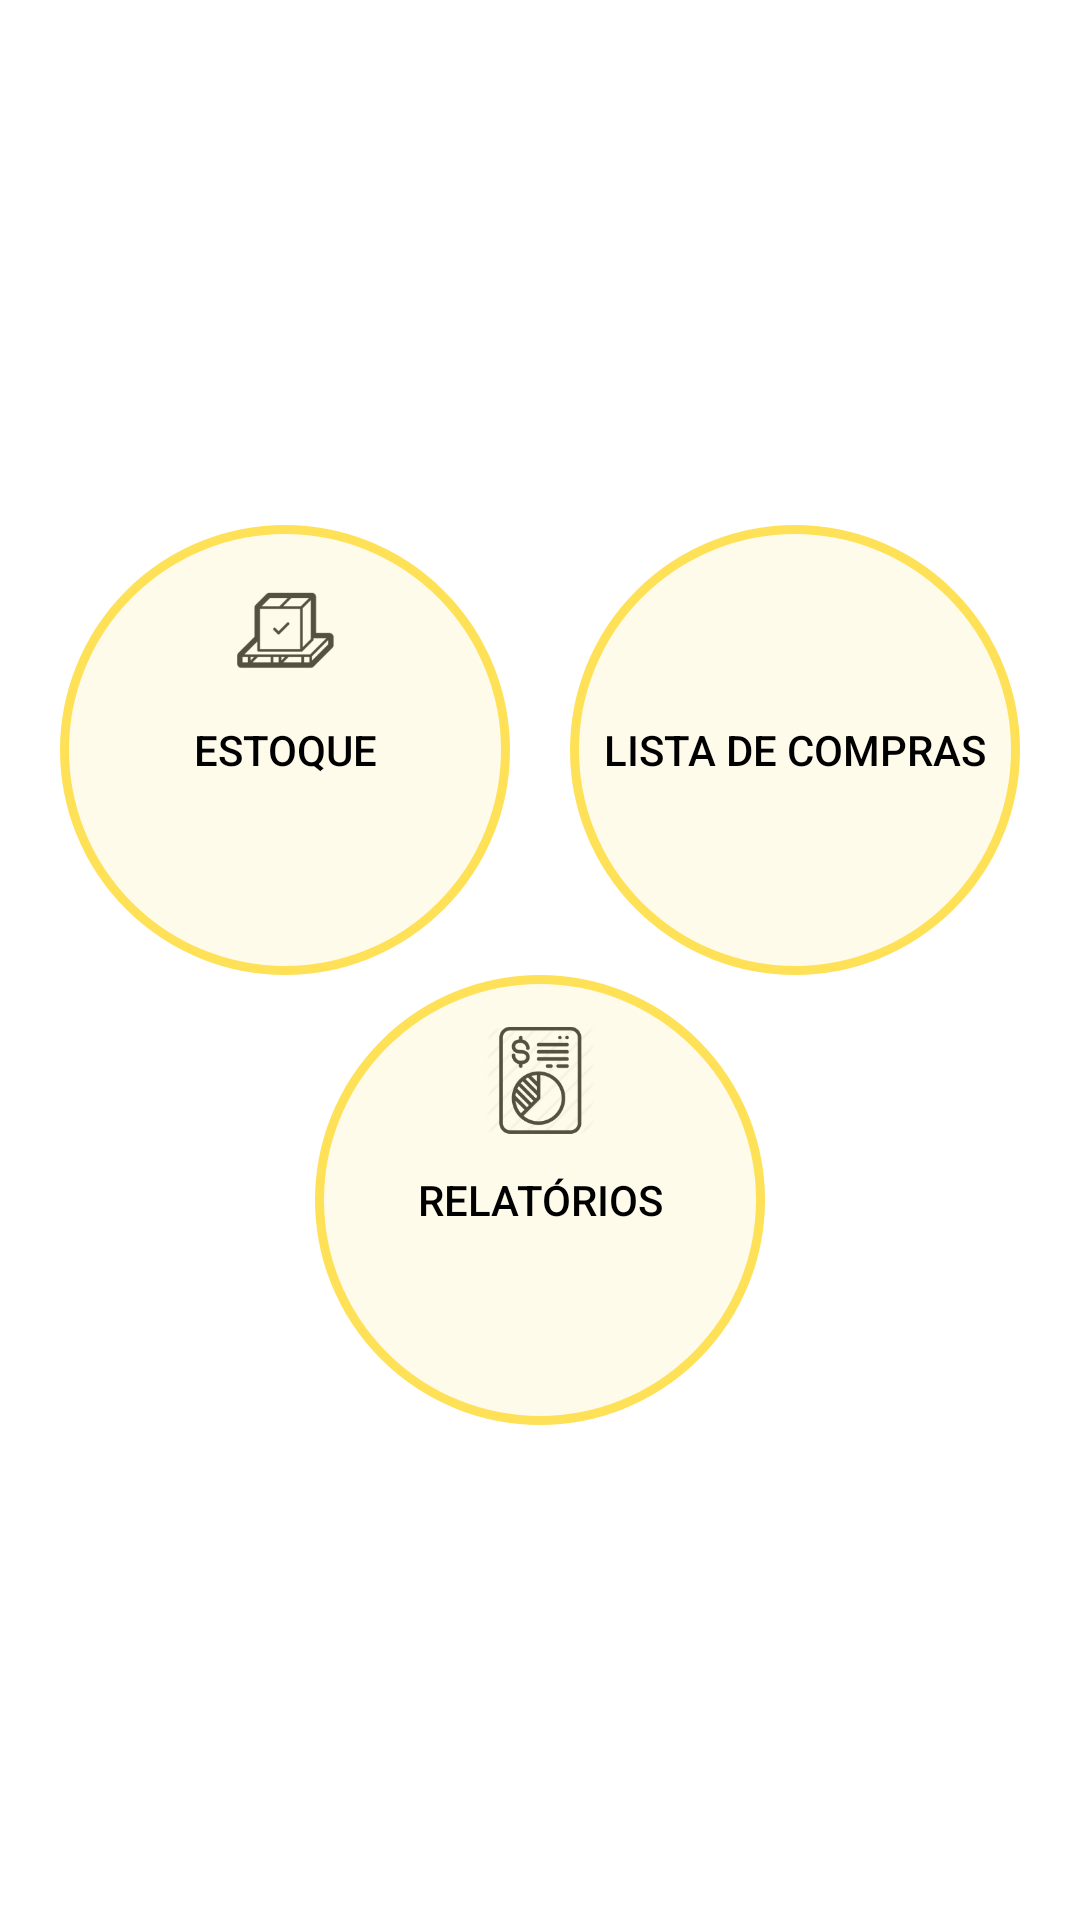

Named icons in this screenshot (1080x1920) and their centers, (x=x, y=y):
relatorio: (x=540, y=1080)
